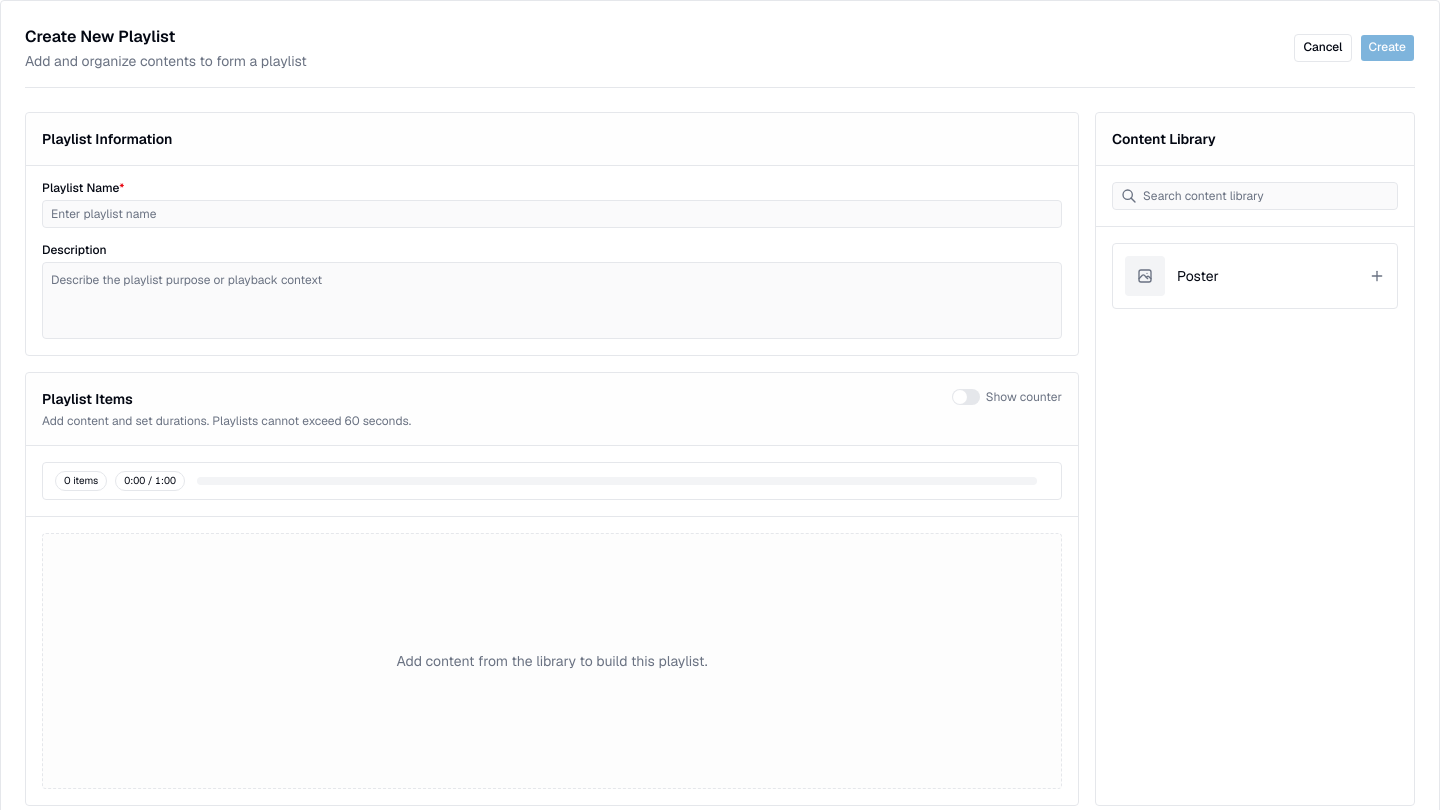
CreatePlaylistForm › disables creation and highlights the duration budget over 60 seconds
Step 1. Type "Morning Playlist" into the field labelled "Playlist Name" → (552, 214), box top-left (42, 200), bottom-right (1062, 228)
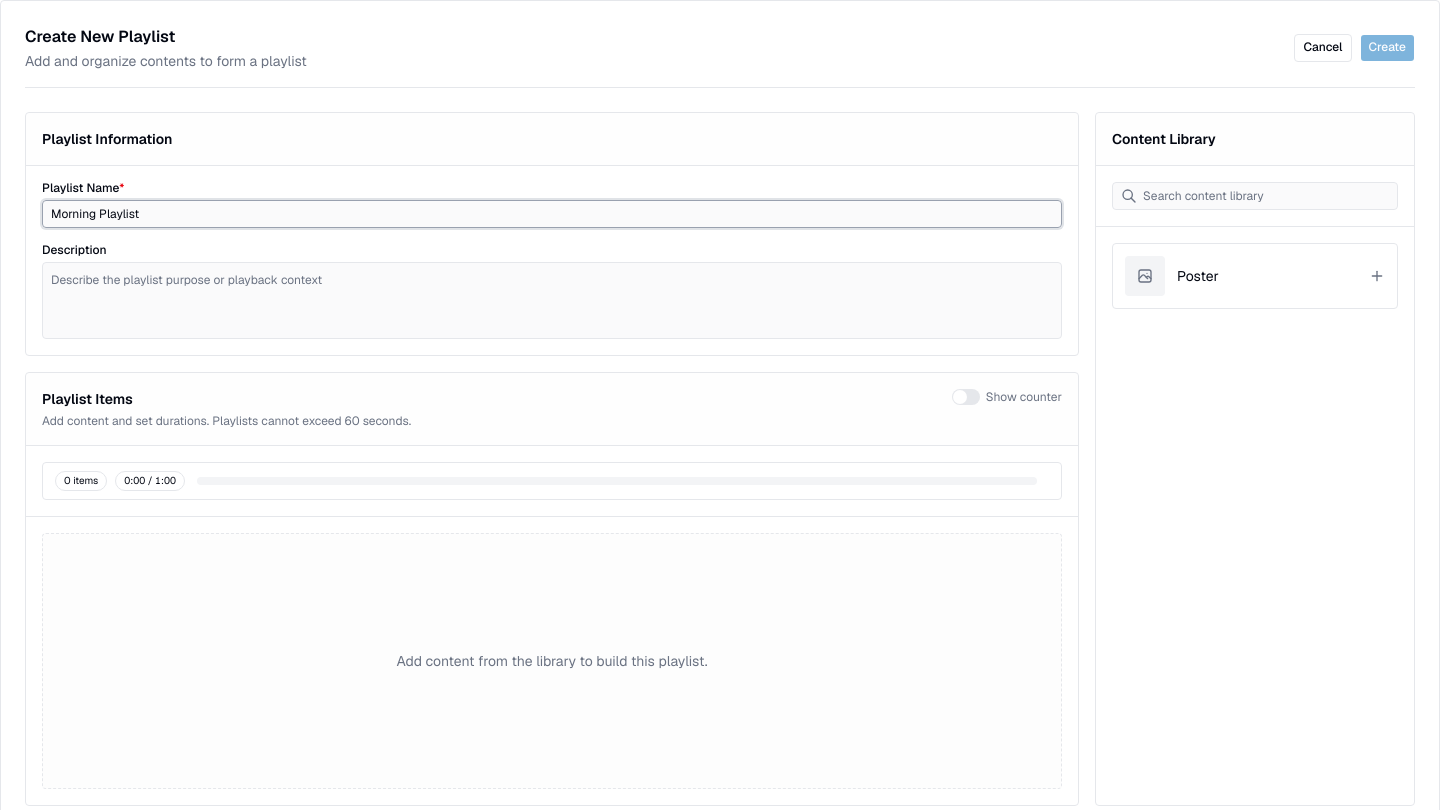
Step 2. Click the button "Poster" → click(1145, 276), box top-left (1112, 243), bottom-right (1398, 309)
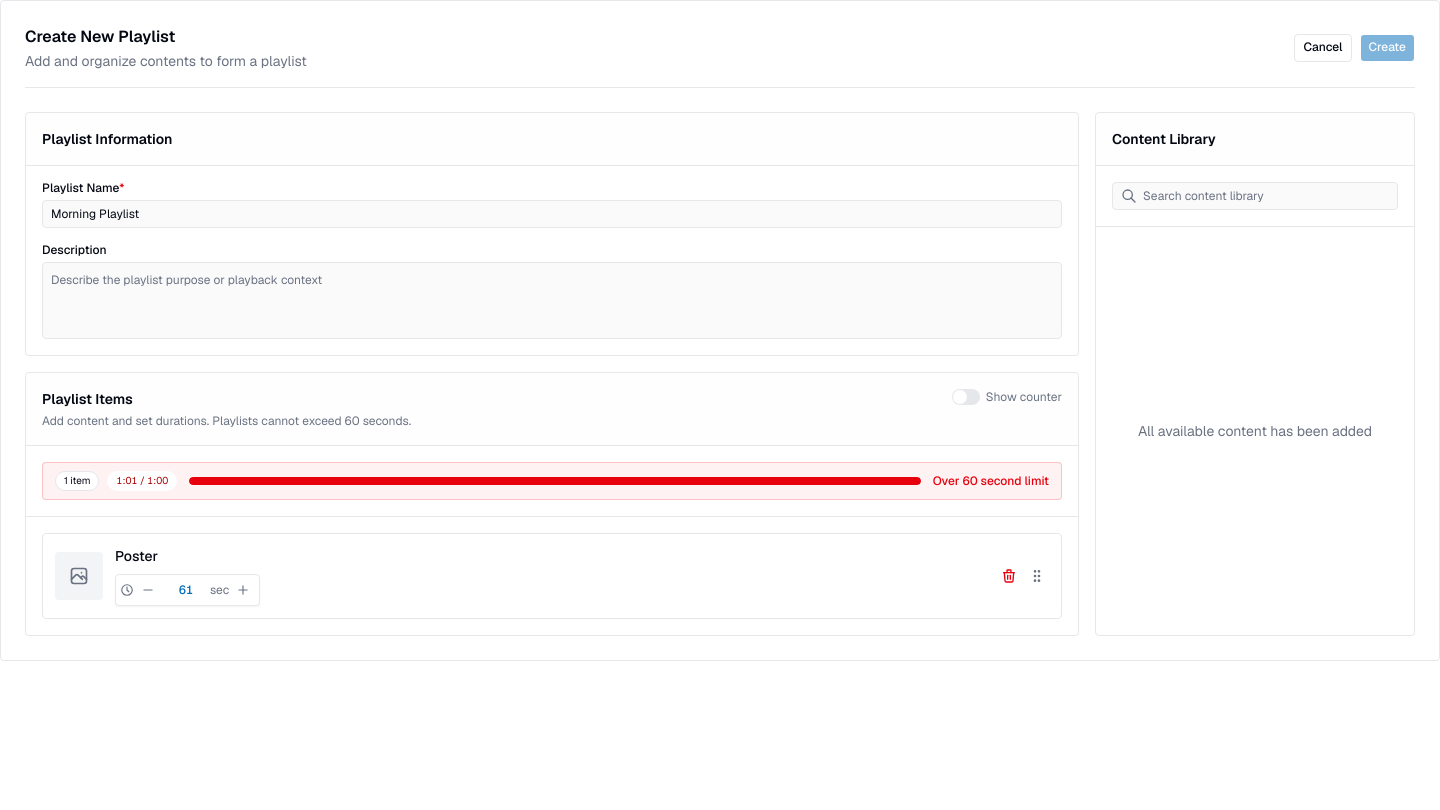
Expected: the button "Create" is disabled, top-left (1360, 34), bottom-right (1415, 62)
Result: the text "Over 60 second limit" is shown at top-left (933, 472), bottom-right (1049, 488)
